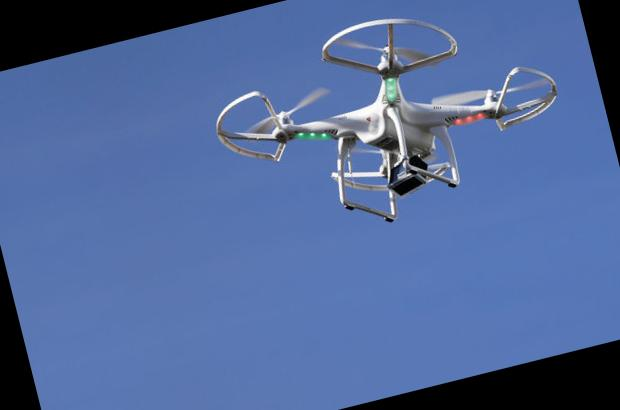drone: (197, 0, 574, 244)
